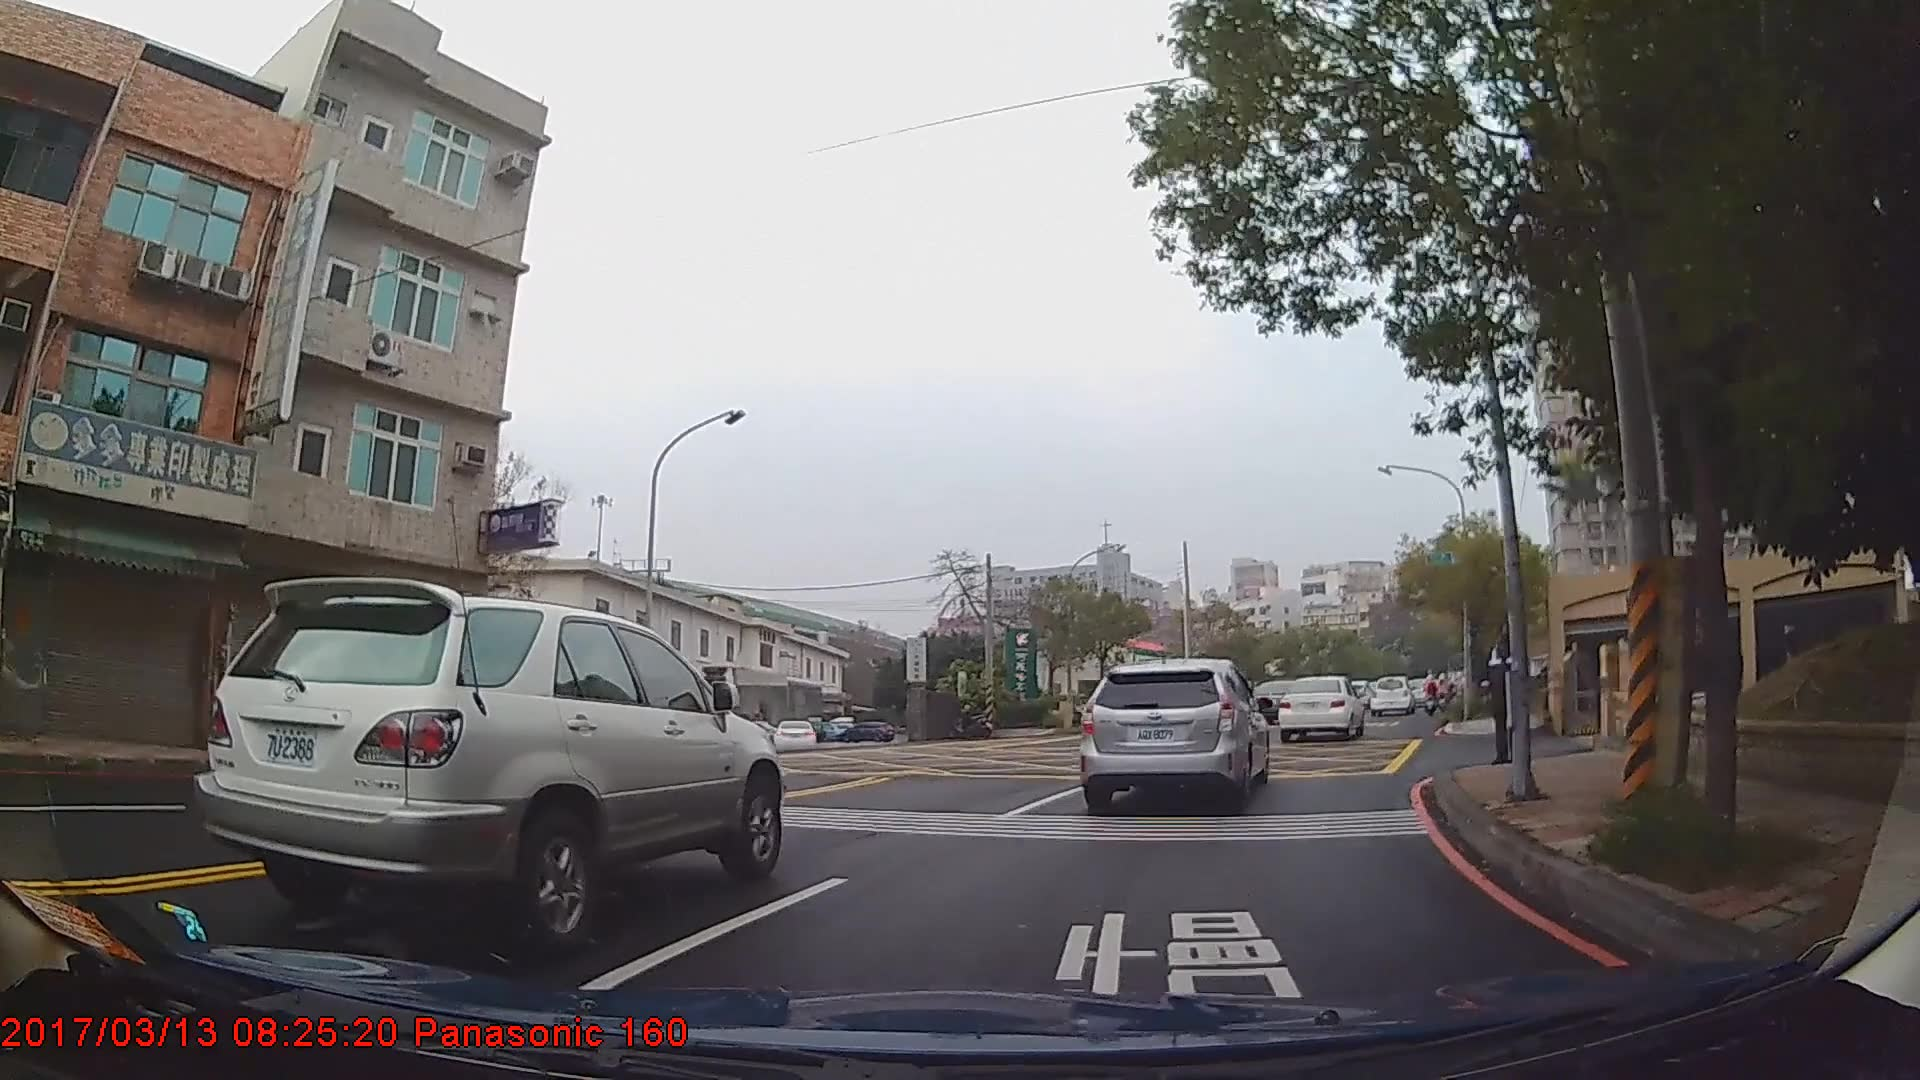pedestrian: (1487, 623, 1532, 768)
vehicle: (190, 572, 784, 948), (1077, 654, 1271, 821), (1276, 674, 1365, 739), (1367, 674, 1416, 717), (836, 719, 897, 741), (772, 719, 817, 748)
